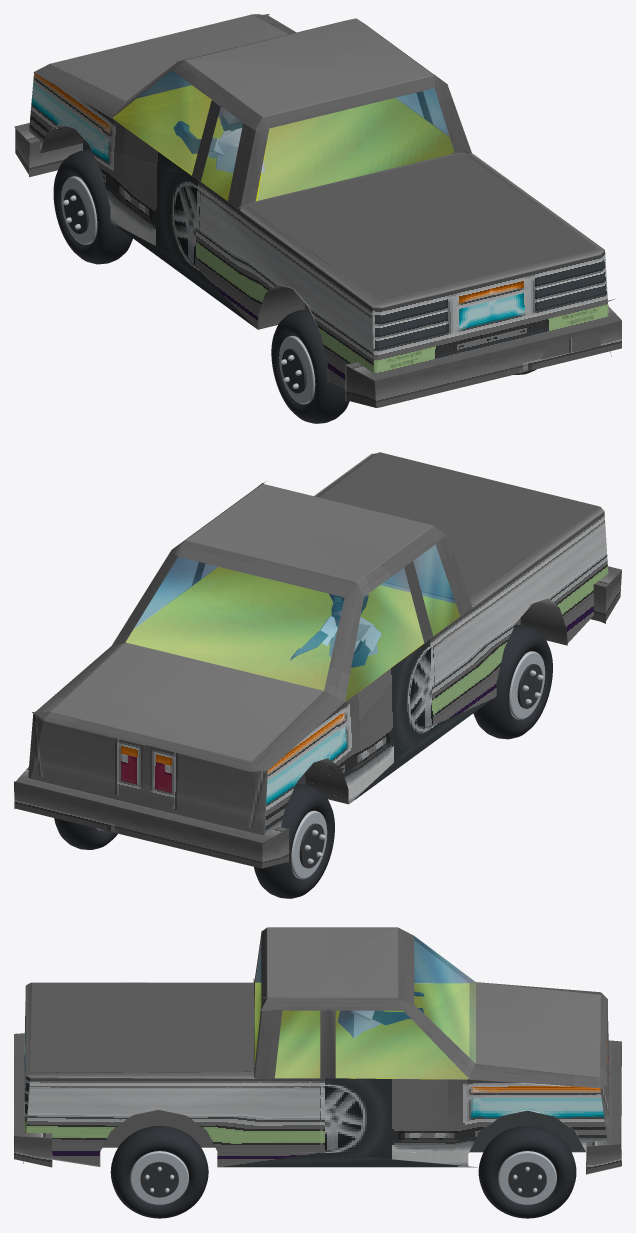
The model's file is car-pickupa.glb.
3 views of the same model, one above another, from view 1: azimuth 30°, elevation 25°; view 2: azimuth 150°, elevation 25°; view 3: azimuth 270°, elevation 25° (orthographic). The views are drawn at different scales.
Visible parts, largest first — view 1: pickupAShape.001, pickupAShape.002, pickupAShape, Rounded tire.021, Rounded tire.022, Alloy rim.022, Alloy rim.021, Rim recess.042, Rim recess.044; view 2: pickupAShape.001, pickupAShape.002, pickupAShape, Rounded tire.021, Rounded tire.022, Rounded tire.023, Alloy rim.022, Alloy rim.021, Rim recess.042, Rim recess.044; view 3: pickupAShape.001, pickupAShape.002, pickupAShape, Rounded tire.023, Rounded tire.020, Alloy rim.023, Alloy rim.020, Rim recess.047, Rim recess.041.
Boxes of the visible parts, box(x1,y1,x2,y2) form: pickupAShape.001: box(14, 14, 621, 407); pickupAShape.002: box(113, 70, 454, 200); pickupAShape: box(113, 85, 454, 201); Rounded tire.021: box(271, 309, 349, 423); Rounded tire.022: box(53, 150, 132, 264); Alloy rim.022: box(61, 176, 97, 244); Alloy rim.021: box(279, 335, 315, 404); Rim recess.042: box(281, 348, 306, 393); Rim recess.044: box(64, 189, 88, 233); pickupAShape.001: box(14, 452, 621, 868); pickupAShape.002: box(126, 545, 459, 701); pickupAShape: box(126, 567, 459, 701); Rounded tire.021: box(473, 624, 552, 739); Rounded tire.022: box(254, 784, 334, 898); Rounded tire.023: box(54, 818, 117, 849); Alloy rim.022: box(291, 810, 327, 879); Alloy rim.021: box(509, 651, 545, 719); Rim recess.042: box(517, 664, 542, 708); Rim recess.044: box(299, 823, 324, 868); pickupAShape.001: box(14, 927, 621, 1174); pickupAShape.002: box(254, 936, 475, 1079); pickupAShape: box(255, 982, 475, 1079); Rounded tire.023: box(478, 1126, 576, 1218); Rounded tire.020: box(110, 1126, 208, 1218); Alloy rim.023: box(498, 1151, 556, 1205); Alloy rim.020: box(130, 1151, 188, 1205); Rim recess.047: box(508, 1161, 546, 1197); Rim recess.041: box(140, 1161, 178, 1197).
Bounding box in the file's own units: 2.4 × 2.14 × 5.52.
Materials: 6 (3 with a texture image).
